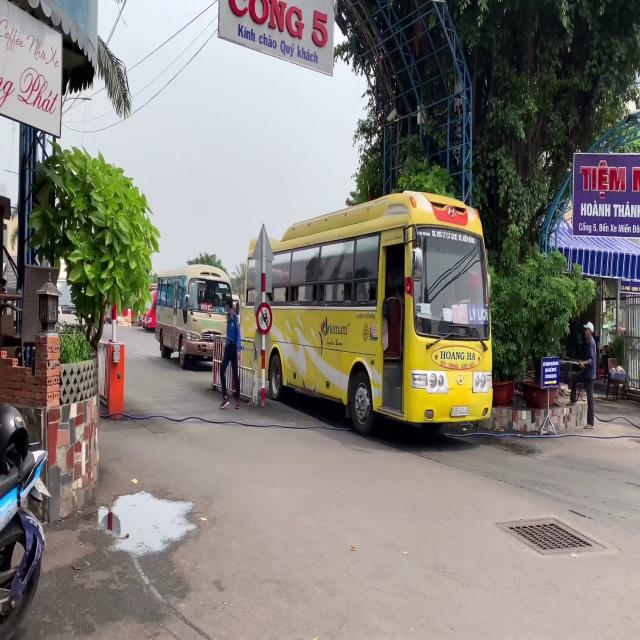bien_trang: (451, 406, 469, 416)
